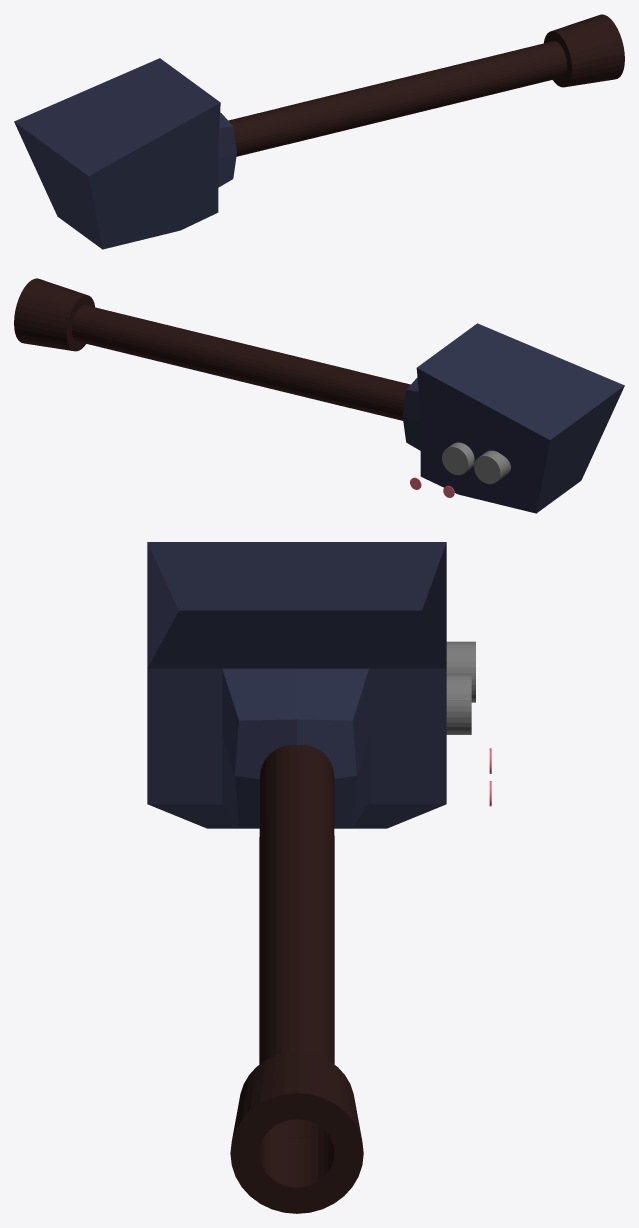
File: default_turret.glb
3 renders of one model, top to bottom at view 1: azimuth 30°, elevation 25°; view 2: azimuth 150°, elevation 25°; view 3: azimuth 270°, elevation 25°, orthographic. The views are drawn at different scales.
Visible parts, largest first — view 1: Gun, Nozzle; view 2: Gun, Nozzle, Cylinder.004, Cylinder; view 3: Gun, Nozzle, Cylinder, Cylinder.004.
Boxes of the visible parts, <box> form: Gun: <box>14,58,236,249</box>; Nozzle: <box>228,14,624,156</box>; Gun: <box>402,323,624,513</box>; Nozzle: <box>14,278,410,420</box>; Cylinder.004: <box>474,450,510,484</box>; Cylinder: <box>442,442,474,475</box>; Gun: <box>147,542,446,828</box>; Nozzle: <box>230,745,363,1213</box>; Cylinder: <box>446,674,471,734</box>; Cylinder.004: <box>446,641,475,702</box>.
Size of the model in its own units: 7.52 by 1.61 by 2.01.
